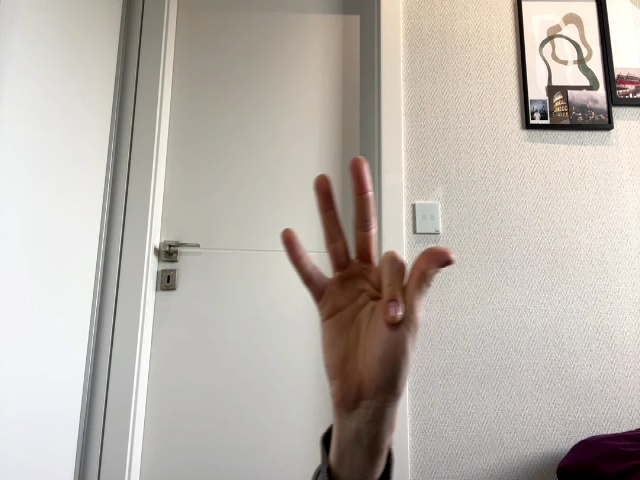F: (282, 156, 455, 398)
